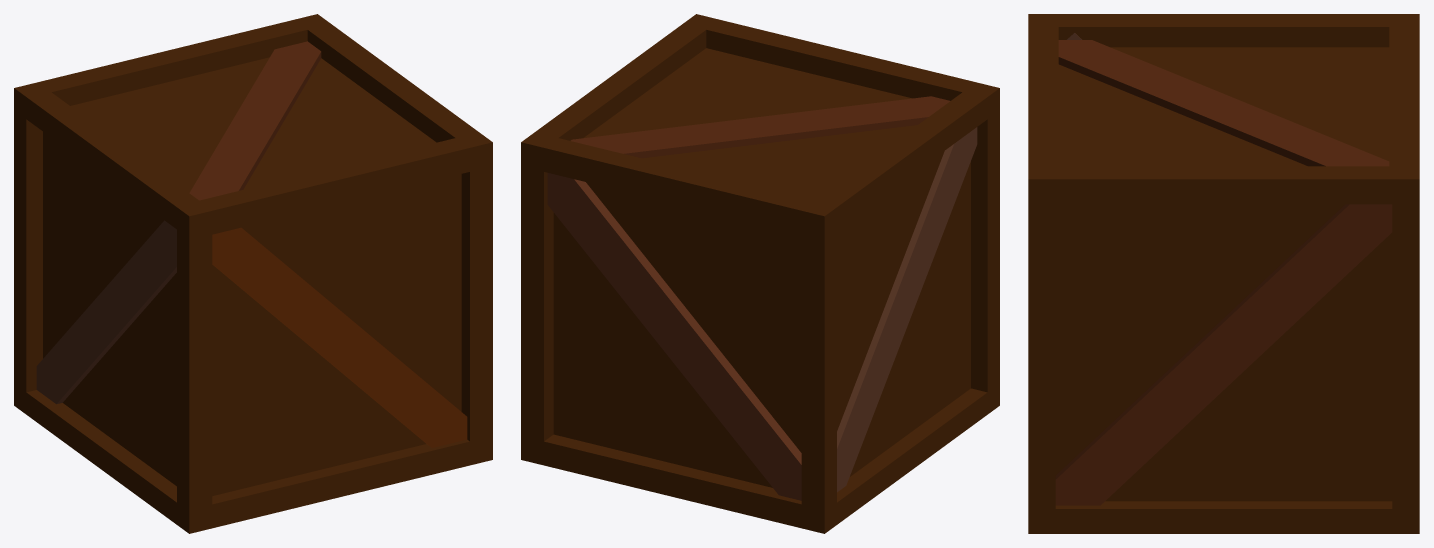
Rendered from crate.fbx.
3 views of the same model, side by side, from view 1: azimuth 30°, elevation 25°; view 2: azimuth 150°, elevation 25°; view 3: azimuth 270°, elevation 25° (orthographic). The views are drawn at different scales.
Parts seen in each view (by area): view 1: Cube; view 2: Cube; view 3: Cube.
Boxes of the visible parts, <box> form: Cube: <box>14,14,492,533</box>; Cube: <box>521,14,999,533</box>; Cube: <box>1028,14,1419,533</box>.
Bounding box in the file's own units: 301 × 303 × 301.
